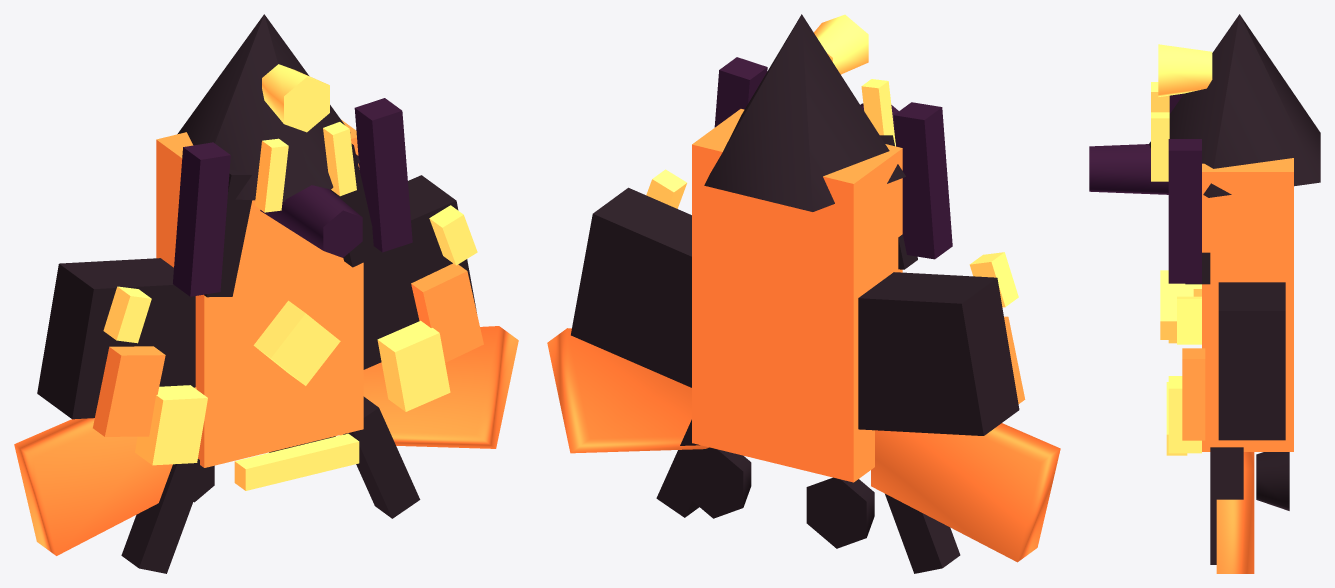
Rendered from enemy-sentinel.glb.
3 views of the same model, side by side, from view 1: azimuth 30°, elevation 25°; view 2: azimuth 150°, elevation 25°; view 3: azimuth 270°, elevation 25° (orthographic). The views are drawn at different scales.
Parts seen in each view (by area): view 1: heavy_core, left_shoulder, left_guard_fin, front_armor, right_guard_fin, right_shoulder, left_side_cannon, right_side_cannon, left_shoulder_service_plate, right_armor_buckle, left_rear_stabilizer, right_shoulder_service_plate (+12 smaller); view 2: heavy_core, left_shoulder, front_armor, right_shoulder, left_guard_fin, right_guard_fin, left_side_cannon, rear_nozzle_l, rear_nozzle_r, left_rear_stabilizer, center_cannon_muzzle, right_side_cannon (+4 smaller); view 3: heavy_core, front_armor, right_shoulder, right_side_cannon, right_guard_fin, center_cannon, center_cannon_muzzle, right_rear_stabilizer, right_shoulder_service_plate, rear_nozzle_r, right_armor_buckle, armor_warning_lens (+4 smaller).
Part boxes in pixels (x1,y1,x2,y2): heavy_core: [156, 119, 363, 467]; left_shoulder: [37, 258, 195, 419]; left_guard_fin: [14, 387, 196, 555]; front_armor: [177, 14, 359, 201]; right_guard_fin: [340, 326, 518, 448]; right_shoulder: [363, 175, 476, 369]; left_side_cannon: [173, 142, 230, 296]; right_side_cannon: [354, 98, 412, 252]; left_shoulder_service_plate: [93, 346, 165, 436]; right_armor_buckle: [377, 320, 450, 411]; left_rear_stabilizer: [121, 459, 205, 573]; right_shoulder_service_plate: [411, 263, 483, 362]; heavy_core: [692, 109, 902, 482]; left_shoulder: [858, 272, 1019, 435]; front_armor: [704, 14, 905, 211]; right_shoulder: [571, 187, 691, 387]; left_guard_fin: [871, 423, 1060, 562]; right_guard_fin: [547, 328, 709, 453]; left_side_cannon: [893, 102, 952, 259]; rear_nozzle_l: [806, 477, 874, 548]; rear_nozzle_r: [683, 447, 751, 518]; left_rear_stabilizer: [885, 494, 960, 573]; center_cannon_muzzle: [814, 14, 868, 74]; right_side_cannon: [714, 57, 767, 127]; heavy_core: [1202, 158, 1293, 451]; front_armor: [1149, 14, 1320, 197]; right_shoulder: [1218, 282, 1285, 440]; right_side_cannon: [1168, 139, 1201, 283]; right_guard_fin: [1216, 452, 1254, 573]; center_cannon: [1089, 144, 1168, 194]; center_cannon_muzzle: [1158, 44, 1212, 96]; right_rear_stabilizer: [1210, 447, 1243, 564]; right_shoulder_service_plate: [1182, 348, 1205, 440]; rear_nozzle_r: [1256, 452, 1289, 510]; right_armor_buckle: [1168, 376, 1201, 453]; armor_warning_lens: [1160, 270, 1193, 339].
Size of the model in its own units: 1.28 by 1.31 by 0.5542.
